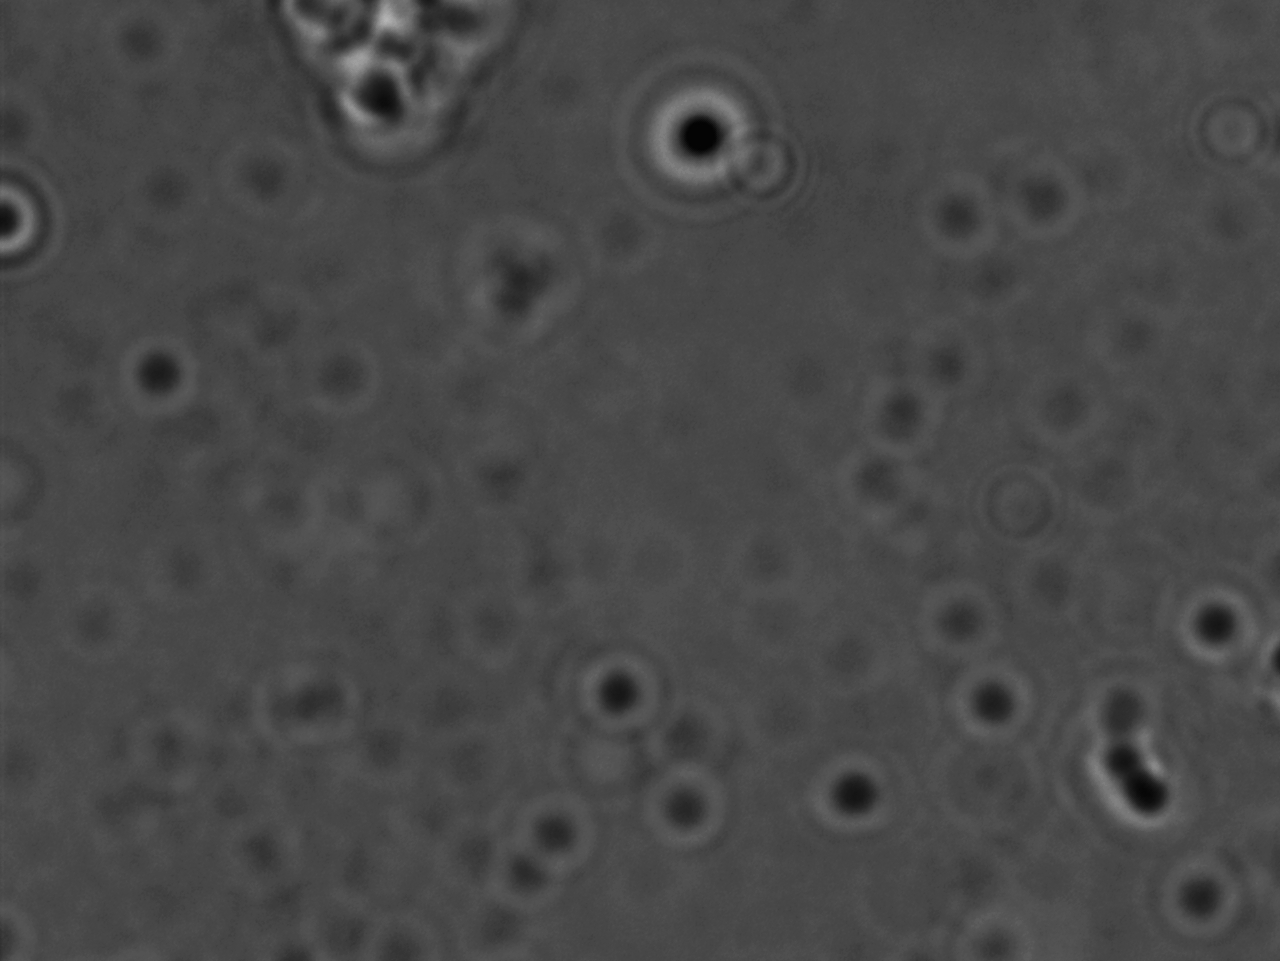depth:-32: (620, 50, 771, 233)
